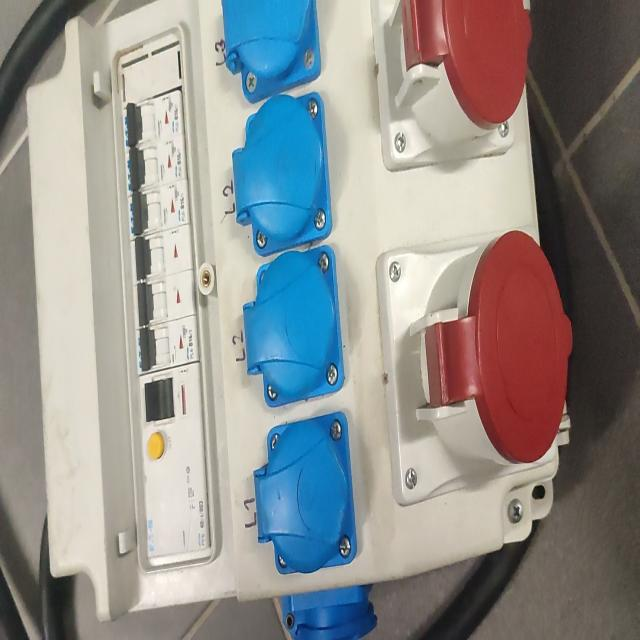400v socket: (376, 229, 573, 508), (370, 2, 532, 171)
house plug covered: (254, 413, 357, 574), (231, 91, 332, 255), (244, 246, 345, 406), (221, 0, 321, 104)
